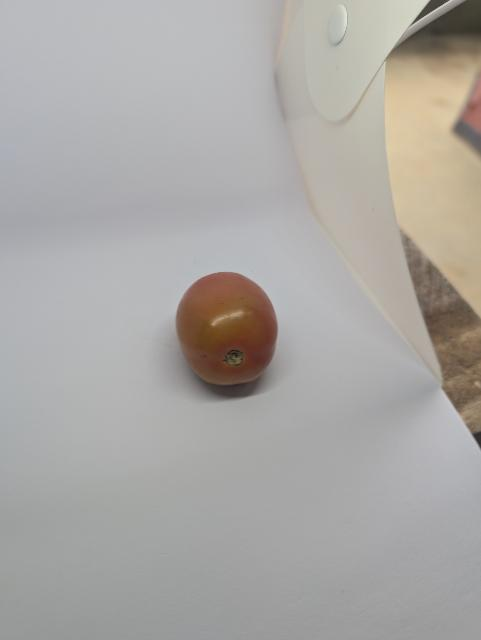turning: (170, 267, 285, 394)
